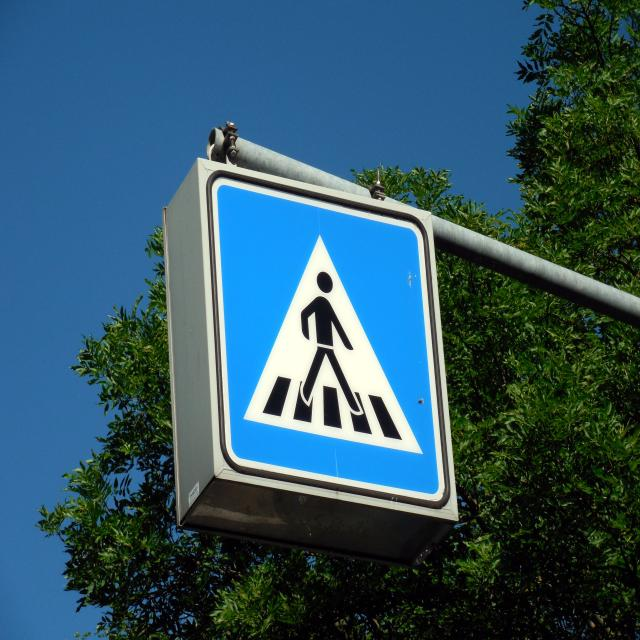Traffic sign: (197, 156, 462, 528)
